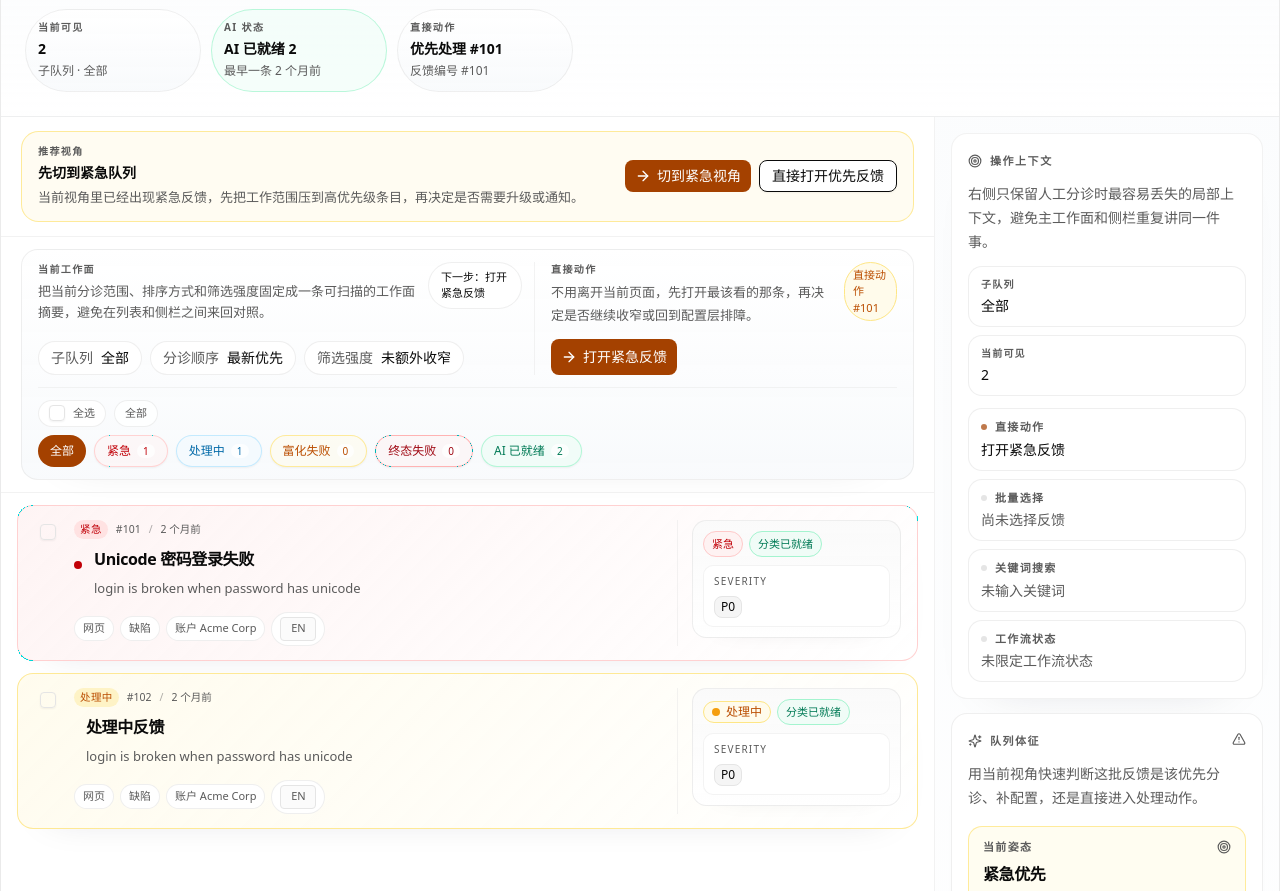
Test case: _authed.feedback route — user flow smoke › queue mode zero-result state explains when a local subqueue has no matching rows
(page scrolled)
Check: the text "处理中反馈" is shown, box x1=86 y1=716 x2=164 y2=738
Click the button named "富化失败0": (318, 450) x1=270 y1=434 x2=367 y2=466
(page scrolled)
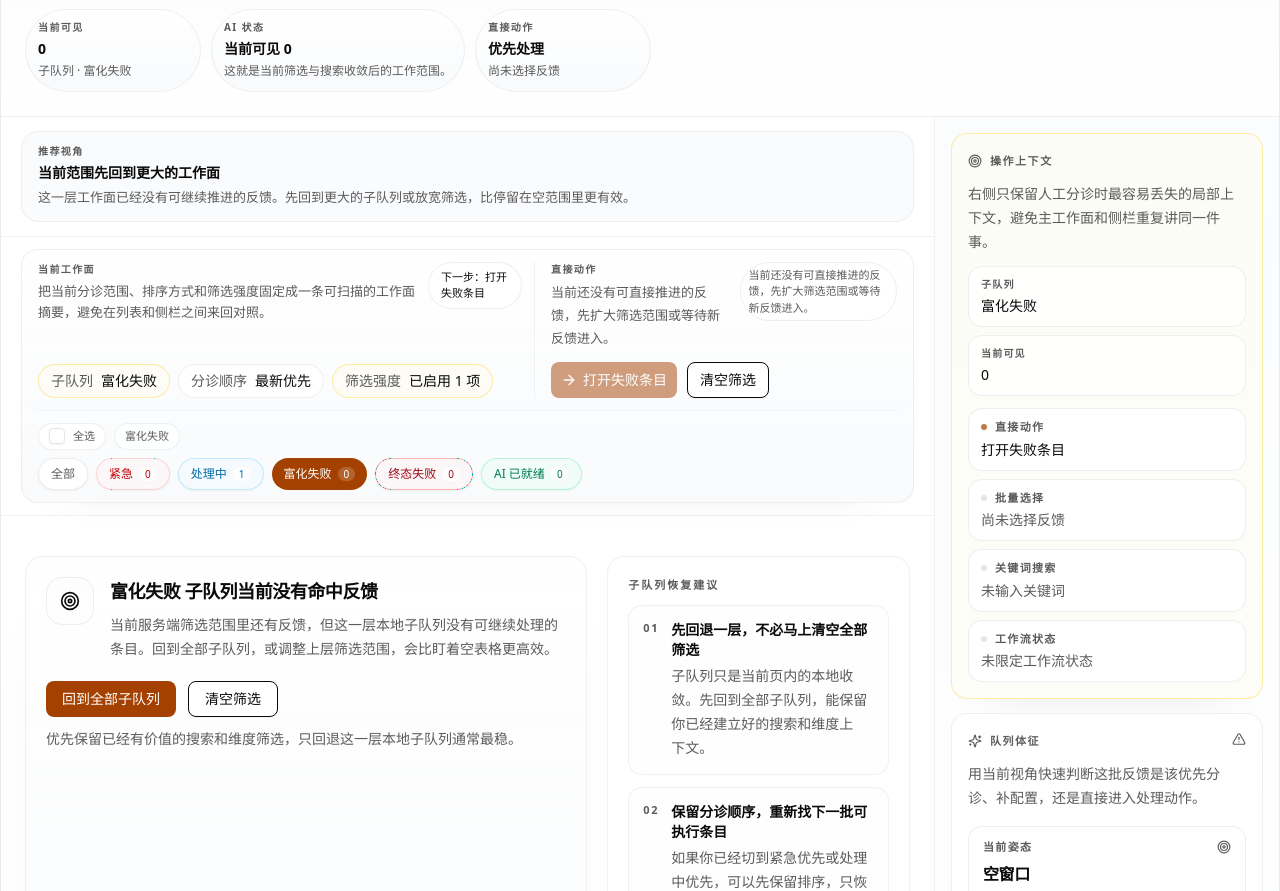
Check: the heading "富化失败 子队列当前没有命中反馈" is shown, box x1=110 y1=579 x2=378 y2=603
Check: the button "回到全部子队列" is shown
Check: the button "处理中反馈" is gone
Click the button "回到全部子队列": (111, 699) x1=46 y1=681 x2=176 y2=717
(page scrolled)
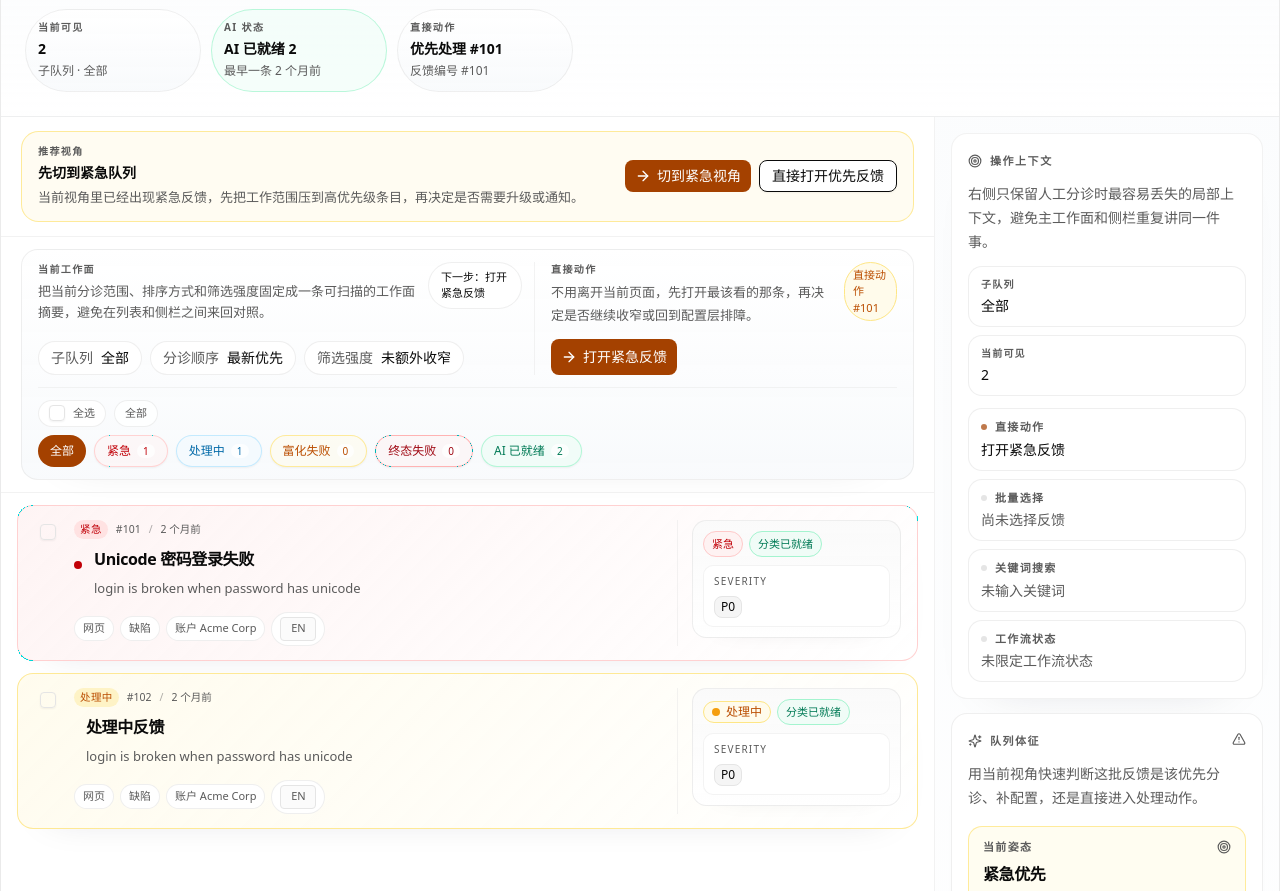
Check: the text "处理中反馈" is shown, box x1=86 y1=716 x2=164 y2=738
